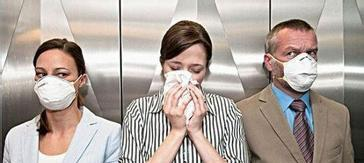NONE: (167, 56, 208, 95)
OK: (35, 62, 79, 111), (276, 47, 318, 91)
